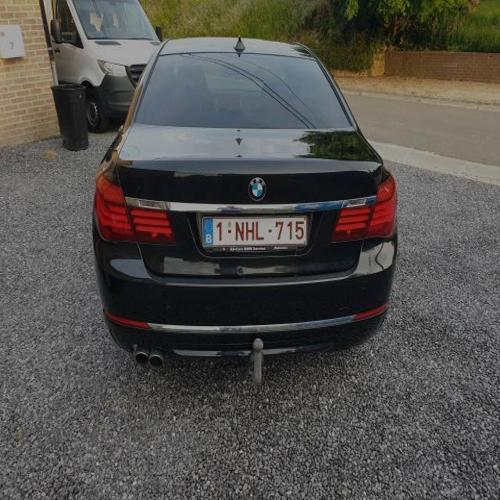plate: (190, 208, 316, 253)
